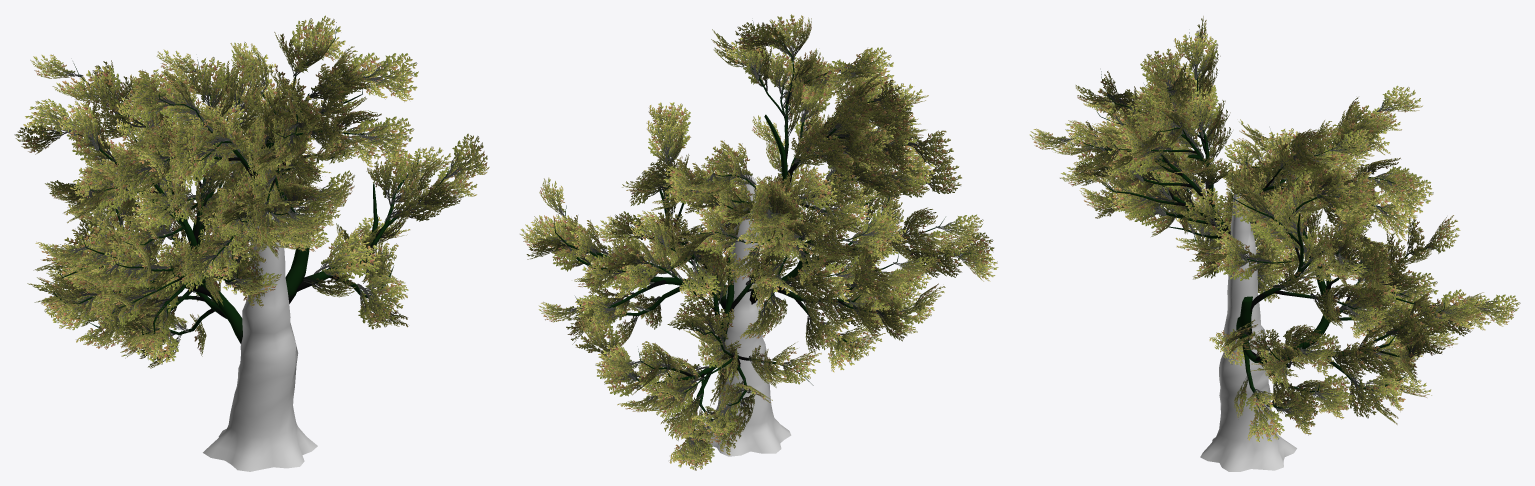
File: tree6_4_afsTREE_xlprl.fbx
The picture shows the model from 3 angles, left to right: view 1: azimuth 30°, elevation 25°; view 2: azimuth 150°, elevation 25°; view 3: azimuth 270°, elevation 25°; orthographic projection. The views are drawn at different scales.
Visible parts, largest first — view 1: branch_xw15_xt10_xp20, leaf.140, leaf.001, leaf.022, leaf.135, leaf.235, leaf.015, leaf.158, leaf.320, leaf.250, leaf.043, leaf.255 (+41 smaller); view 2: branch_xw15_xt10_xp20, leaf.330, leaf.074, leaf.029, leaf.100, leaf1.325, leaf.188, leaf1.255, leaf.150, leaf.034, leaf.261, leaf1.279 (+13 smaller); view 3: branch_xw15_xt10_xp20, leaf.234, leaf.292, leaf.049, leaf.086, leaf.005, leaf.239, leaf.155, leaf.035, leaf.045, leaf.160, leaf.080 (+15 smaller).
Boxes of the visible parts, box(x1,y1,x2,y2) form: branch_xw15_xt10_xp20: box(203, 180, 317, 471); leaf.140: box(364, 53, 418, 100); leaf.001: box(358, 285, 407, 329); leaf.022: box(315, 230, 366, 281); leaf.135: box(359, 116, 414, 162); leaf.235: box(125, 69, 173, 121); leaf.015: box(444, 133, 489, 177); leaf.158: box(71, 65, 121, 113); leaf.320: box(130, 186, 174, 228); leaf.250: box(169, 145, 214, 190); leaf.043: box(181, 57, 227, 109); leaf.255: box(113, 157, 150, 202); branch_xw15_xt10_xp20: box(703, 175, 791, 456); leaf.330: box(861, 206, 906, 240); leaf.074: box(575, 323, 620, 356); leaf.029: box(646, 118, 688, 160); leaf.100: box(681, 259, 720, 297); leaf1.325: box(798, 169, 832, 206); leaf.188: box(819, 59, 863, 103); leaf1.255: box(908, 130, 946, 166); leaf.150: box(691, 405, 736, 433); leaf.034: box(585, 254, 622, 296); leaf.261: box(860, 166, 904, 197); leaf1.279: box(954, 235, 989, 271); branch_xw15_xt10_xp20: box(1200, 190, 1296, 471); leaf.234: box(1174, 32, 1217, 78); leaf.292: box(1180, 187, 1224, 228); leaf.049: box(1316, 164, 1355, 209); leaf.086: box(1348, 375, 1387, 418); leaf.005: box(1278, 390, 1318, 435); leaf.239: box(1176, 90, 1219, 136); leaf.155: box(1388, 174, 1433, 218); leaf.035: box(1348, 305, 1387, 338); leaf.045: box(1329, 129, 1375, 156); leaf.160: box(1376, 85, 1422, 111); leaf.080: box(1477, 294, 1520, 324).
Size of the model in its own units: 452 by 422 by 477.
